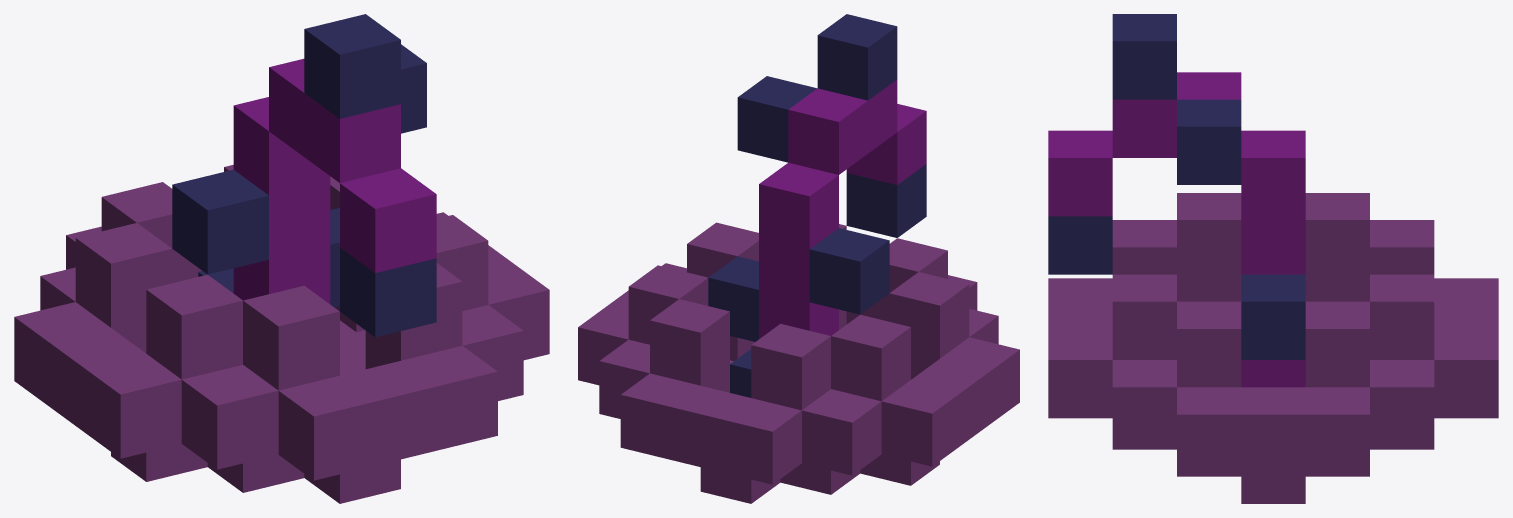
The model's file is Task Flower 5.obj.
3 renders of one model, left to right at view 1: azimuth 30°, elevation 25°; view 2: azimuth 150°, elevation 25°; view 3: azimuth 270°, elevation 25°, orthographic. The views are drawn at different scales.
Bounding box in the file's own units: 0.7 × 0.7 × 0.7.
1 material, 1 textured.
